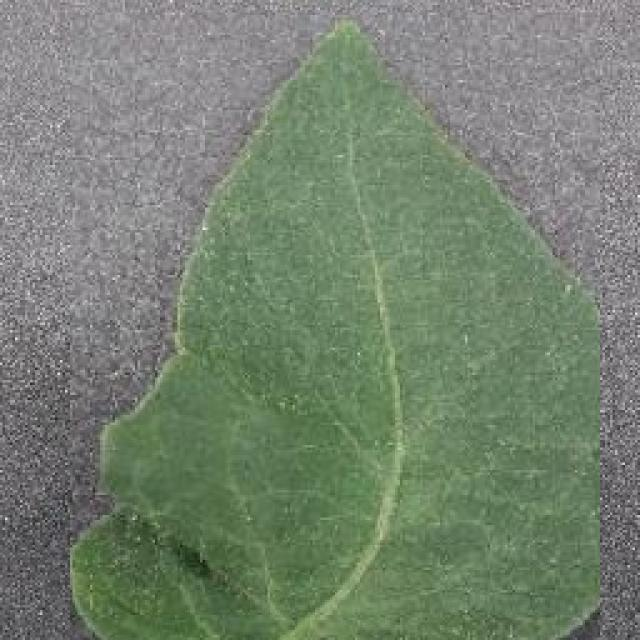Healthy: (70, 12, 600, 640)
